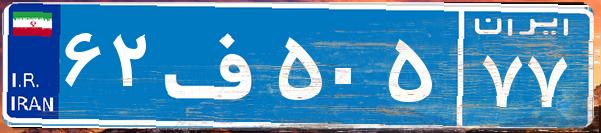0: (330, 28, 385, 110)
2: (110, 28, 158, 105)
5: (385, 28, 445, 110), (273, 28, 330, 110)
6: (57, 26, 110, 107)
7: (475, 38, 525, 113), (525, 38, 570, 115)
ف: (158, 15, 273, 115)
